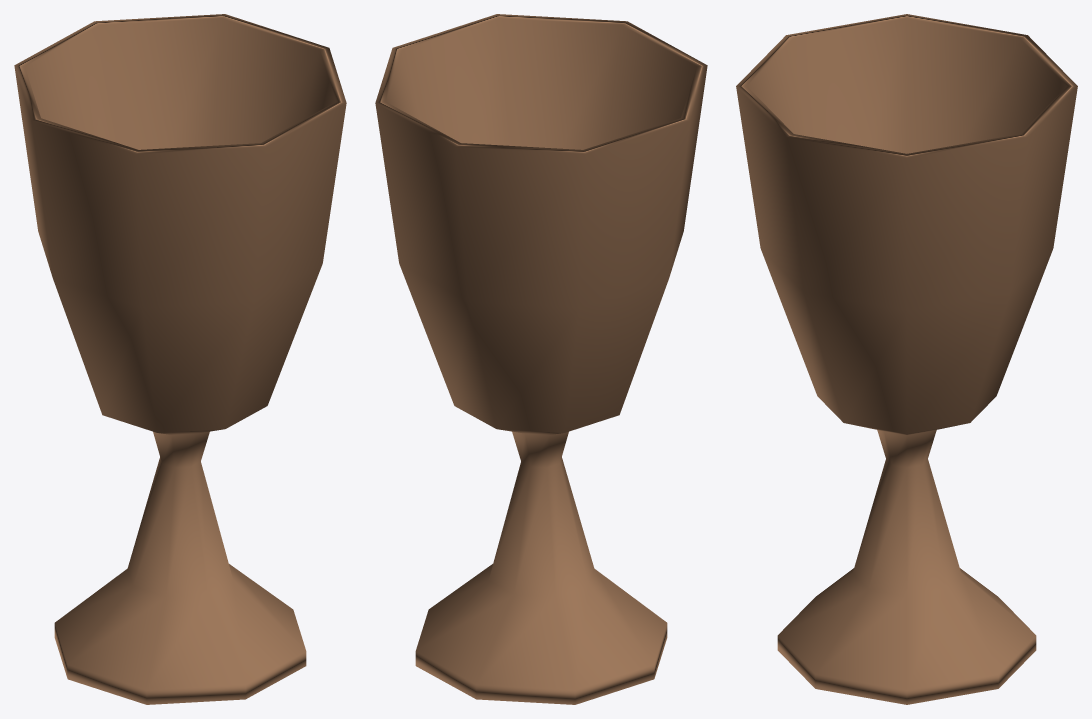
File: Cup_01.fbx
The picture shows the model from 3 angles, left to right: view 1: azimuth 30°, elevation 25°; view 2: azimuth 150°, elevation 25°; view 3: azimuth 270°, elevation 25°; orthographic projection.
Visible parts, largest first — view 1: Cup_01; view 2: Cup_01; view 3: Cup_01.
Part boxes in pixels (x1,y1,x2,y2): Cup_01: [14, 14, 346, 704]; Cup_01: [375, 14, 707, 704]; Cup_01: [736, 14, 1077, 704].
Bounding box in the file's own units: 13.45 × 24.48 × 13.45.
